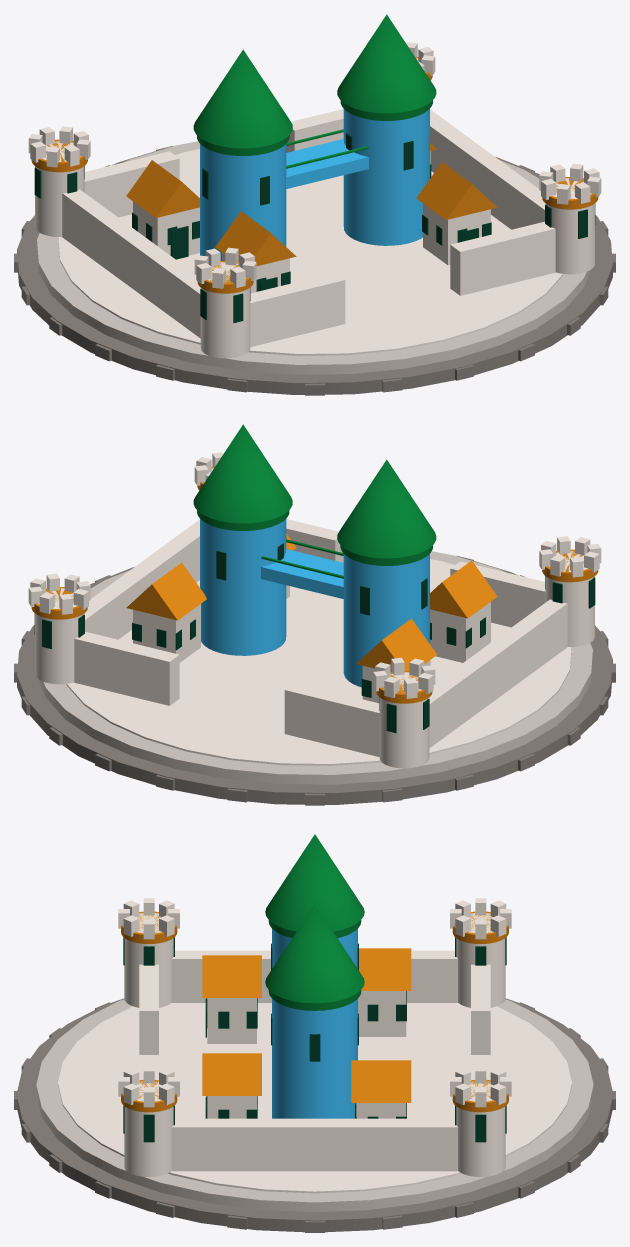
The model's file is city_partner.glb.
3 views of the same model, one above another, from view 1: azimuth 30°, elevation 25°; view 2: azimuth 150°, elevation 25°; view 3: azimuth 270°, elevation 25° (orthographic).
Visible parts, largest first — view 1: city-floor_grey, curtain-wall_white, exchange-tower_white, lower-plinth_stone, corner-tower_white, upper-plinth_white, exchange-tower_green, gate-wall_white, courtyard-building_green, courtyard-building_white, plinth-tooth_stone, exchange-bridge_white (+6 smaller); view 2: city-floor_grey, curtain-wall_white, exchange-tower_white, lower-plinth_stone, corner-tower_white, upper-plinth_white, exchange-tower_green, courtyard-building_green, courtyard-building_white, gate-wall_white, plinth-tooth_stone, exchange-bridge_white (+6 smaller); view 3: city-floor_grey, curtain-wall_white, corner-tower_white, upper-plinth_white, lower-plinth_stone, exchange-tower_green, courtyard-building_green, exchange-tower_white, courtyard-building_white, plinth-tooth_stone, corner-tower_stone, gate-wall_white (+4 smaller).
Boxes of the visible parts, <box> form: city-floor_grey: <box>58,149,563,355</box>; curtain-wall_white: <box>62,109,545,338</box>; exchange-tower_white: <box>200,109,429,260</box>; lower-plinth_stone: <box>17,147,612,394</box>; corner-tower_white: <box>28,42,601,358</box>; upper-plinth_white: <box>37,141,590,374</box>; exchange-tower_green: <box>193,14,436,148</box>; gate-wall_white: <box>250,221,555,346</box>; courtyard-building_green: <box>126,143,497,266</box>; courtyard-building_white: <box>133,151,490,293</box>; plinth-tooth_stone: <box>14,146,615,395</box>; exchange-bridge_white: <box>286,139,368,188</box>; city-floor_grey: <box>66,559,571,765</box>; curtain-wall_white: <box>74,519,567,756</box>; exchange-tower_white: <box>200,519,429,687</box>; lower-plinth_stone: <box>17,557,612,804</box>; corner-tower_white: <box>28,452,601,768</box>; upper-plinth_white: <box>39,551,592,784</box>; exchange-tower_green: <box>193,424,436,558</box>; courtyard-building_green: <box>126,533,497,671</box>; courtyard-building_white: <box>133,585,490,703</box>; gate-wall_white: <box>286,519,545,627</box>; plinth-tooth_stone: <box>14,556,615,805</box>; exchange-bridge_white: <box>261,549,343,598</box>; city-floor_grey: <box>58,1003,571,1193</box>; curtain-wall_white: <box>171,950,490,1171</box>; corner-tower_white: <box>118,898,511,1176</box>; upper-plinth_white: <box>36,999,593,1212</box>; lower-plinth_stone: <box>16,998,613,1232</box>; exchange-tower_green: <box>265,834,364,1003</box>; courtyard-building_green: <box>202,948,411,1102</box>; exchange-tower_white: <box>272,929,357,1118</box>; courtyard-building_white: <box>207,991,406,1118</box>; plinth-tooth_stone: <box>14,1002,615,1232</box>; corner-tower_stone: <box>121,911,508,1112</box>; gate-wall_white: <box>139,964,158,1080</box>.
Bounding box in the file's own units: 23.59 × 10.27 × 23.59.
